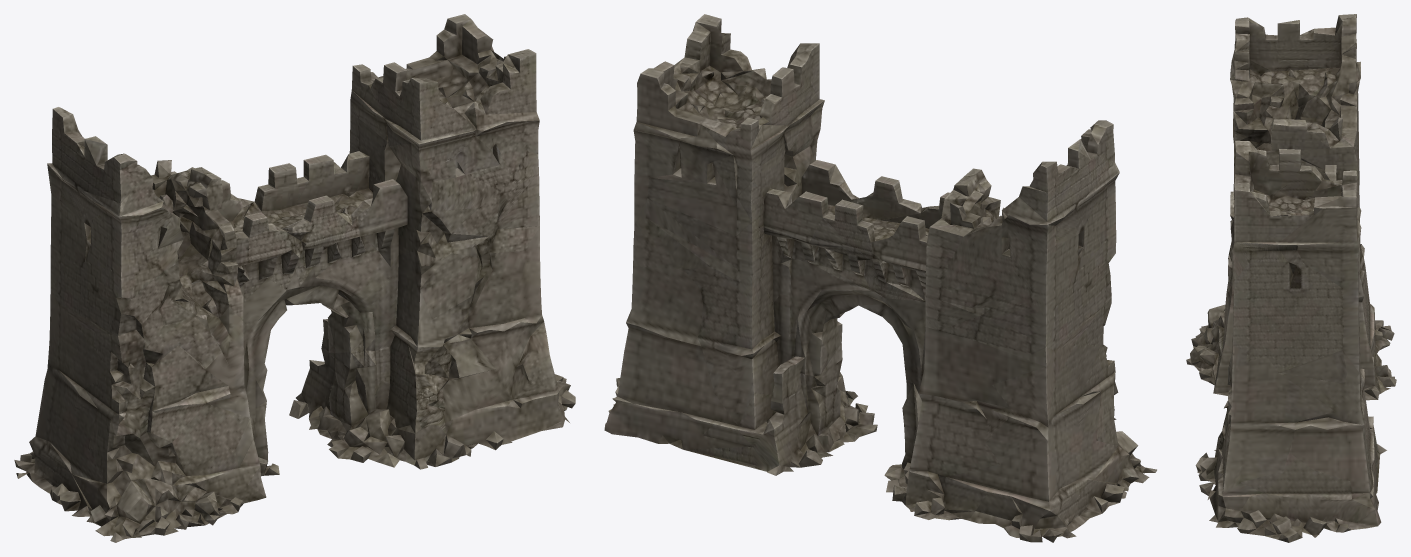
Rendered from main_gate_destroyed.glb.
3 views of the same model, side by side, from view 1: azimuth 30°, elevation 25°; view 2: azimuth 150°, elevation 25°; view 3: azimuth 270°, elevation 25° (orthographic). The views are drawn at different scales.
Parts seen in each view (by area): view 1: output_unwrapped; view 2: output_unwrapped; view 3: output_unwrapped.
Part boxes in pixels (x1,y1,x2,y2): output_unwrapped: [14, 14, 575, 542]; output_unwrapped: [604, 14, 1156, 542]; output_unwrapped: [1186, 14, 1396, 542].
Bounding box in the file's own units: 1.87 × 1.29 × 0.7509.
1 material, 1 textured.
